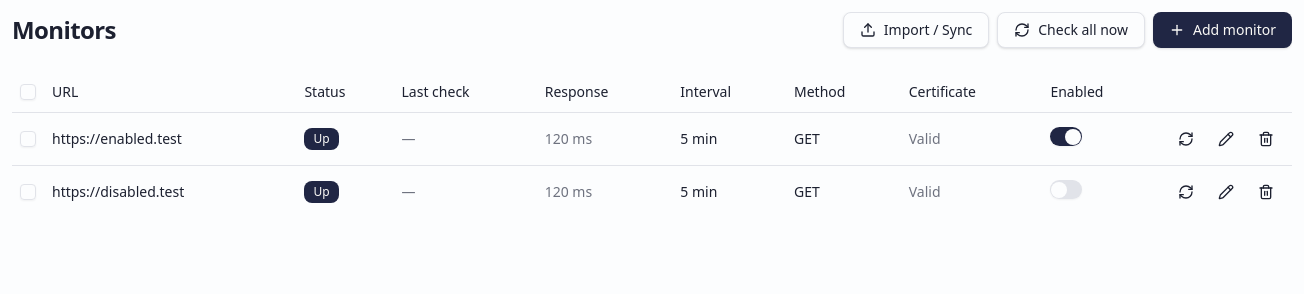
Test case: MonitorsPage bulk actions › hides the bulk bar until something is selected, and clears it after an action
Check: the text "https://enabled.test" is shown, box [52,128,182,148]
Check: the text "selected" is not shown
Click the checkbox named "Select all monitors".
click(28, 92)  # box [20,84,36,100]
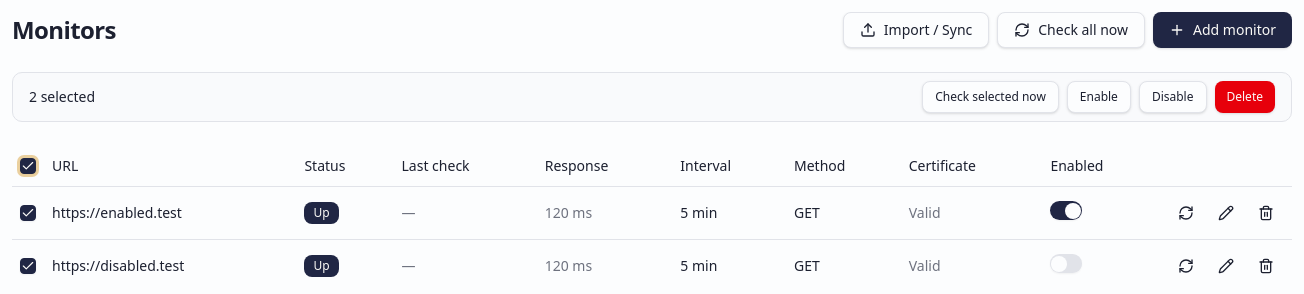
Check: the text "2 selected" is shown, box [29,87,95,107]
Click the button "Disable".
click(1173, 97)  # box [1139,81,1206,113]
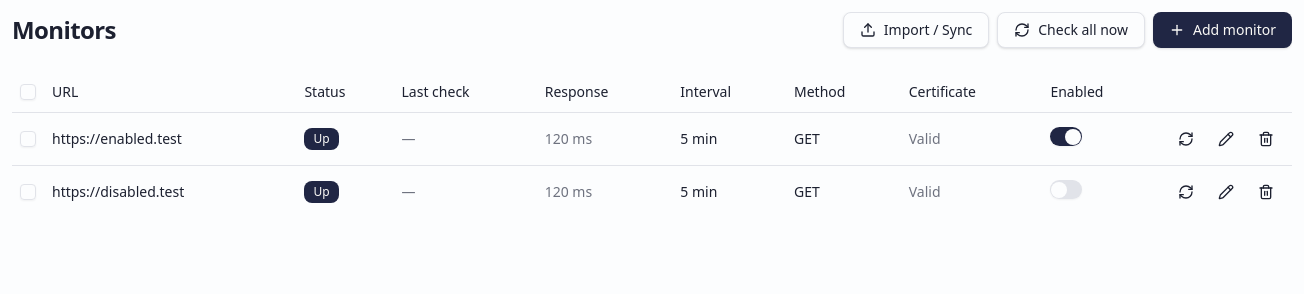
Check: the text "2 selected" is gone
